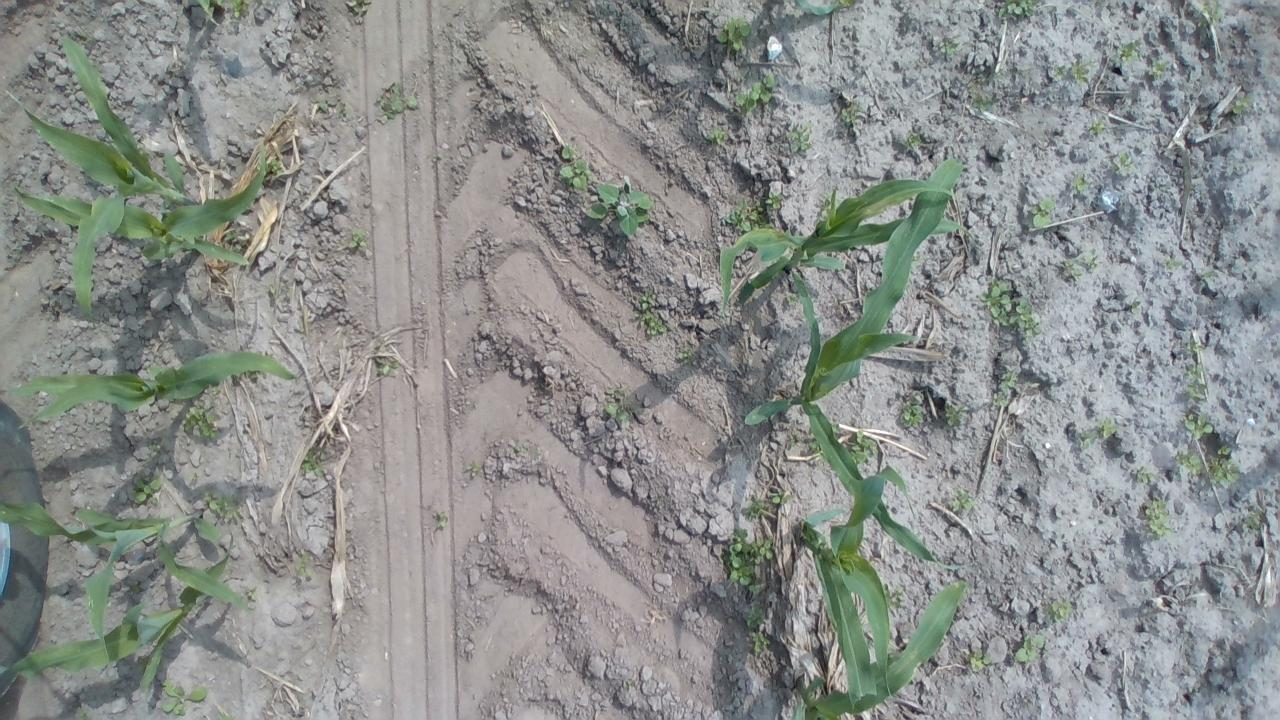Maize: (746, 158, 971, 570), (6, 30, 198, 320), (0, 498, 251, 670), (798, 466, 975, 709), (1, 530, 234, 690), (718, 178, 972, 320), (15, 144, 266, 266), (791, 581, 966, 720), (4, 350, 298, 430), (794, 0, 844, 17), (196, 0, 225, 26), (218, 709, 234, 720)
Weeds: (584, 181, 654, 238), (978, 280, 1044, 336), (723, 524, 773, 595), (964, 60, 1032, 90), (376, 82, 419, 127), (160, 679, 210, 715), (718, 196, 770, 229), (734, 74, 776, 113), (604, 385, 641, 425), (560, 143, 590, 190), (1180, 360, 1212, 403), (183, 400, 218, 439), (128, 470, 162, 509), (1143, 498, 1173, 542), (203, 488, 244, 520), (986, 369, 1018, 410), (715, 16, 750, 52), (1204, 453, 1240, 486), (848, 427, 878, 465), (783, 119, 816, 153), (1180, 411, 1214, 443), (70, 8, 98, 46), (1013, 630, 1045, 662), (1043, 594, 1075, 626), (1110, 39, 1144, 68), (632, 310, 668, 336), (1172, 450, 1206, 477), (1026, 196, 1054, 228), (898, 398, 924, 431), (994, 0, 1038, 19), (512, 434, 540, 462), (948, 486, 976, 512), (310, 86, 339, 110), (302, 447, 324, 477), (943, 398, 966, 426), (750, 631, 774, 657), (740, 494, 764, 520), (1148, 58, 1172, 83), (294, 550, 316, 577), (1244, 505, 1264, 534), (969, 90, 993, 114), (884, 583, 904, 610), (840, 98, 859, 126), (1114, 150, 1136, 174), (970, 646, 990, 672), (746, 600, 764, 628), (1060, 261, 1084, 281), (347, 226, 367, 250), (1077, 427, 1097, 451), (1198, 2, 1224, 20), (374, 357, 400, 375), (769, 487, 795, 505), (939, 38, 962, 58), (1098, 416, 1118, 439), (1071, 60, 1090, 84), (705, 125, 725, 147), (222, 228, 242, 250), (346, 0, 372, 16), (903, 127, 921, 150), (1070, 173, 1090, 193), (765, 190, 785, 210), (676, 346, 696, 366), (1088, 118, 1109, 137), (1234, 92, 1252, 114), (229, 0, 251, 18), (1134, 466, 1156, 484), (1199, 268, 1218, 288), (1184, 338, 1206, 355), (1163, 255, 1183, 272), (1086, 248, 1100, 270), (466, 459, 482, 478), (648, 496, 664, 514), (270, 156, 284, 176), (642, 289, 656, 309), (621, 676, 637, 693), (433, 510, 448, 528), (818, 191, 831, 210), (336, 99, 349, 116), (786, 433, 798, 451), (1130, 294, 1140, 315), (784, 291, 799, 304), (1216, 444, 1232, 456), (1054, 62, 1066, 78), (77, 707, 90, 720), (1021, 695, 1034, 708), (148, 439, 160, 452), (130, 581, 142, 594), (246, 588, 257, 602), (805, 439, 818, 450), (376, 341, 387, 353), (211, 384, 222, 395), (188, 472, 198, 482), (830, 422, 840, 432), (840, 0, 854, 7), (268, 284, 276, 296), (432, 154, 442, 162)
